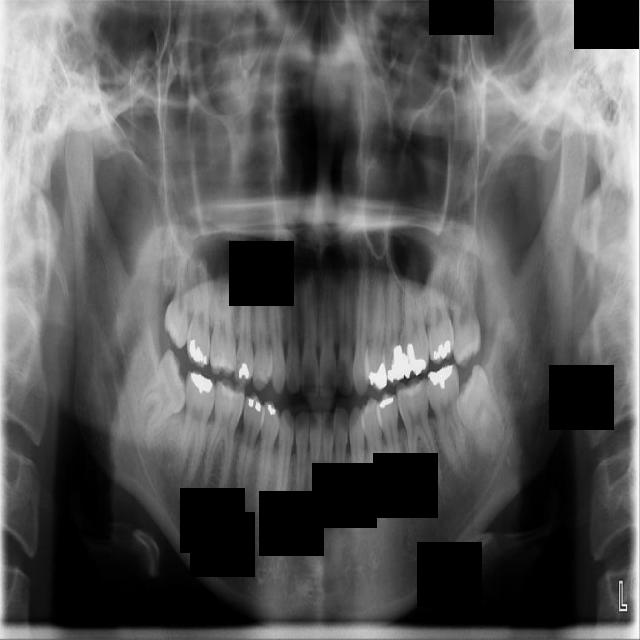3M ESPE Implant: (162, 242, 195, 350)
52: (390, 373, 442, 429), (394, 324, 434, 379), (212, 376, 247, 431), (425, 362, 460, 417), (183, 317, 214, 372), (183, 371, 217, 420), (426, 314, 455, 366), (361, 341, 388, 393), (209, 332, 236, 378), (258, 401, 282, 448), (381, 337, 404, 386), (242, 392, 265, 440), (375, 392, 399, 436), (233, 340, 255, 386)
73: (610, 586, 614, 599)
BioHorizons Implant: (427, 244, 454, 364)
BioLife Implant: (443, 241, 483, 369)
Biomet 3i Implant: (442, 361, 517, 463)
Blue Sky Bio Implant: (423, 361, 469, 473)
Caries: (184, 250, 211, 370)
Implant: (175, 370, 219, 487)
Keystone Dental Implant: (121, 347, 206, 447)
